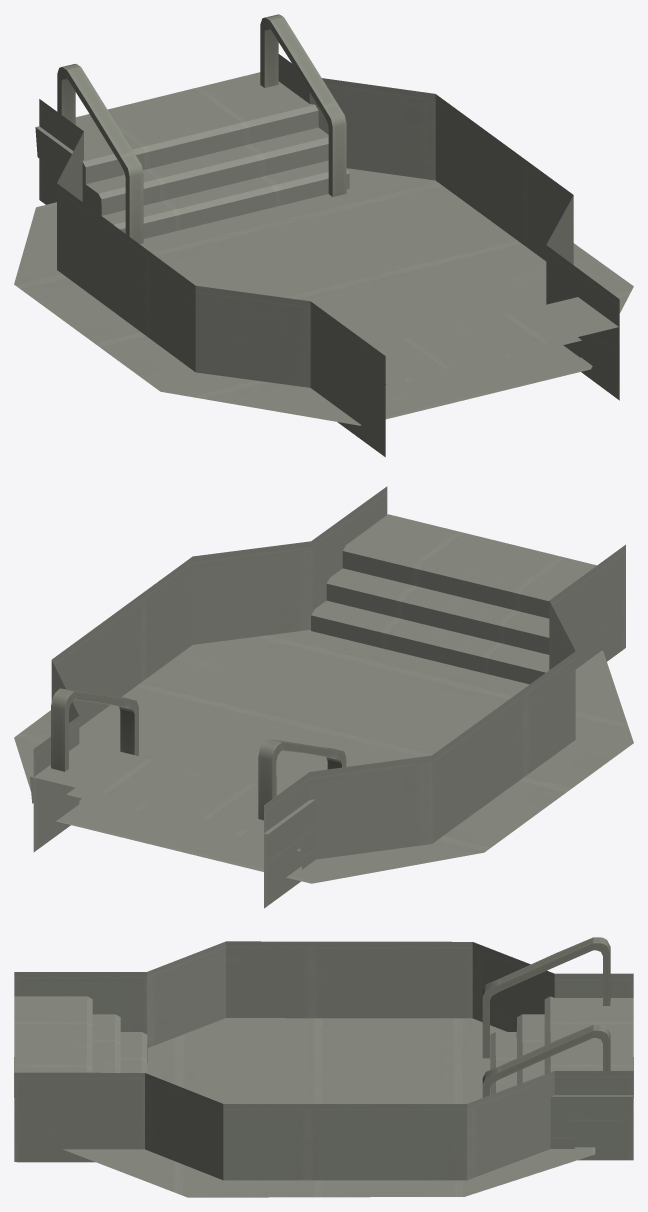
File: pref_sm_city_ramen05b_snow_lv3.fbx
3 views of the same model, one above another, from view 1: azimuth 30°, elevation 25°; view 2: azimuth 150°, elevation 25°; view 3: azimuth 270°, elevation 25° (orthographic). The views are drawn at different scales.
Visible parts, largest first — view 1: pref_sm_city_ramen05b_snow_lv3; view 2: pref_sm_city_ramen05b_snow_lv3; view 3: pref_sm_city_ramen05b_snow_lv3.
Boxes of the visible parts, x1,y1,x2,y2 form: pref_sm_city_ramen05b_snow_lv3: (14, 14, 633, 457); pref_sm_city_ramen05b_snow_lv3: (14, 486, 633, 908); pref_sm_city_ramen05b_snow_lv3: (14, 937, 633, 1197).
Bounding box in the file's own units: 7.68 × 2.3 × 10.08.
